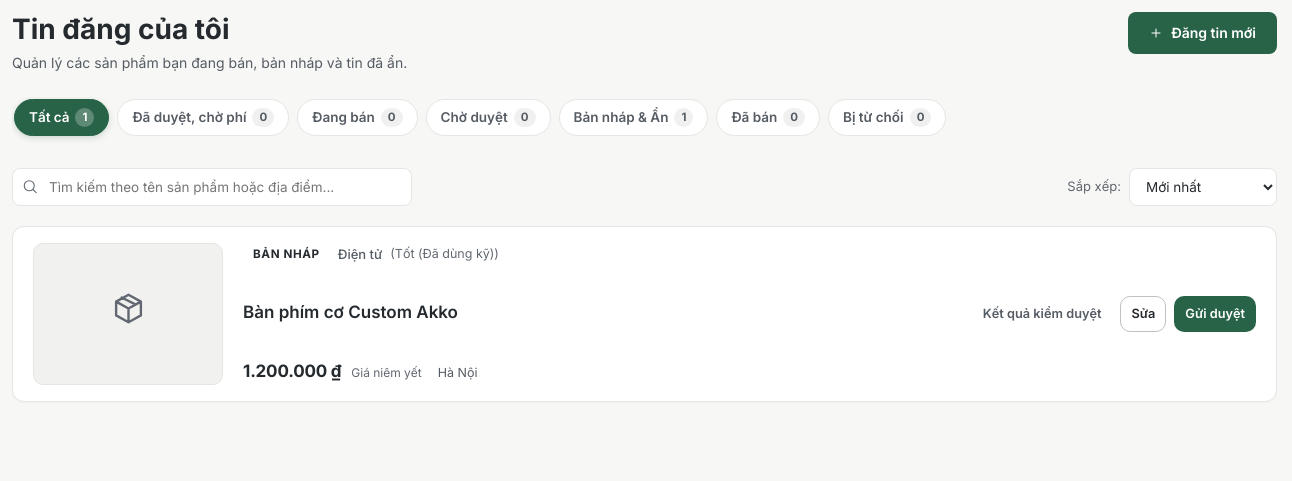
Test: SellerListingsPage Component › enforces manual review: DRAFT has submit for review CTA instead of direct publish
Expected: the heading "Bàn phím cơ Custom Akko" is shown, [243,302,458,322]
# Primary CTA is "Gửi duyệt"
Click the button "Gửi duyệt" at coordinates (1215, 314), box [1174,296,1256,332]
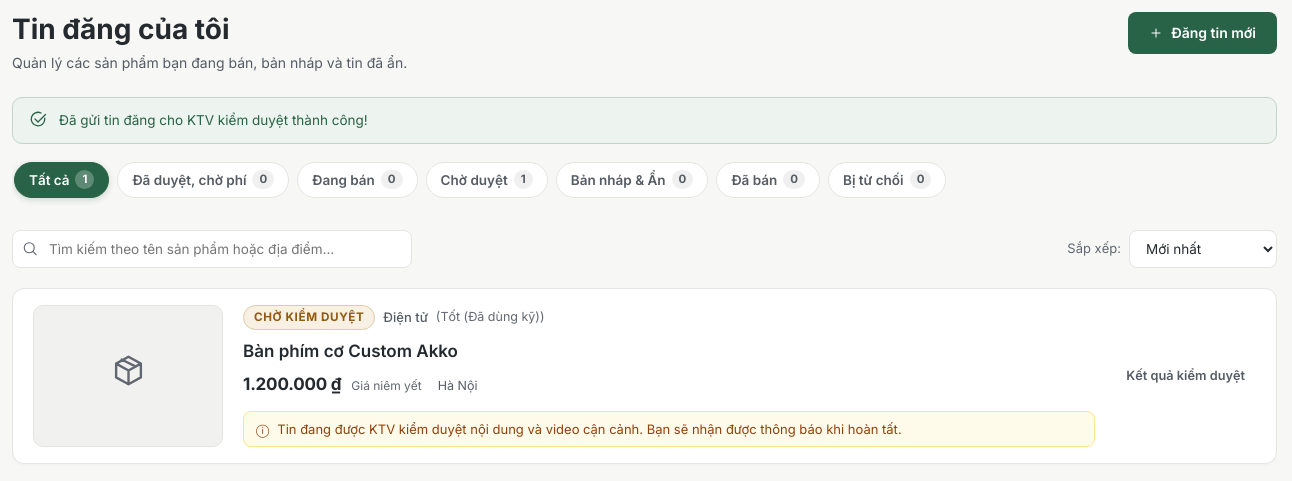
Expected: the text "Đã gửi tin đăng cho KTV kiểm duyệt thành công!" is shown, [59,112,368,128]
